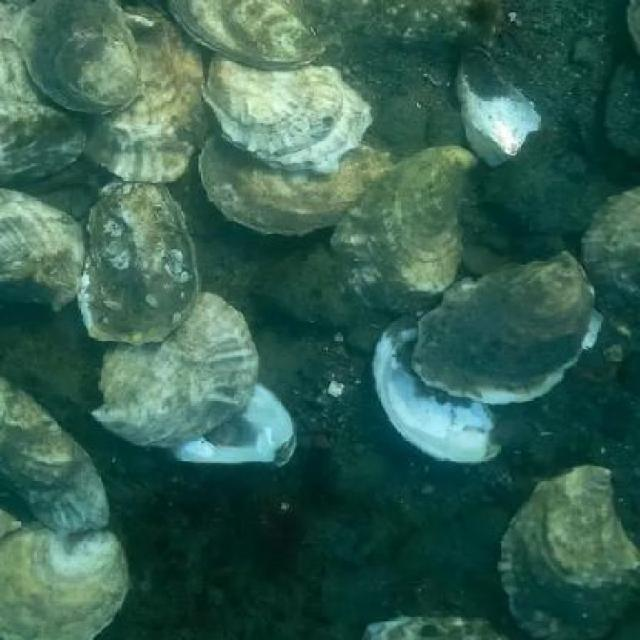Oyster-Indeterminate: (414, 251, 603, 403), (93, 290, 260, 449), (498, 465, 640, 640), (331, 145, 478, 314), (76, 3, 214, 182), (200, 124, 395, 236), (76, 180, 199, 343), (203, 53, 370, 172), (0, 375, 111, 533), (0, 520, 128, 640), (19, 0, 143, 115), (169, 0, 326, 70), (0, 188, 86, 310), (580, 188, 640, 335), (0, 97, 88, 189), (359, 616, 507, 640)
